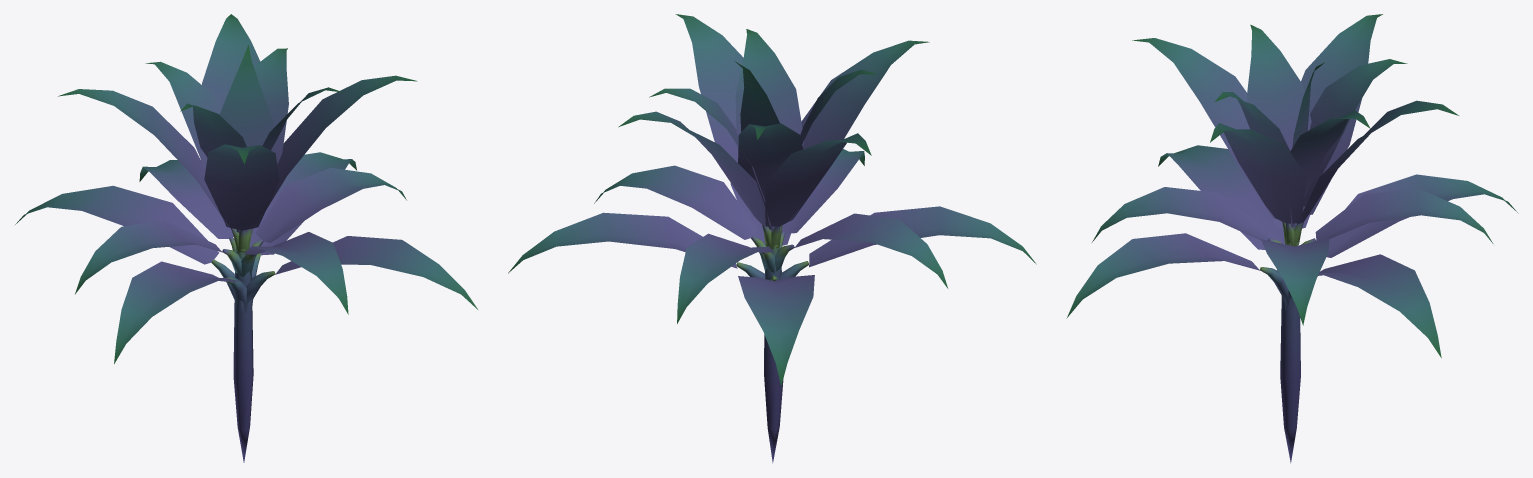
Rendered from plants-leafy-plants-bromeliad_v2.fbx.
The picture shows the model from 3 angles, left to right: view 1: azimuth 30°, elevation 25°; view 2: azimuth 150°, elevation 25°; view 3: azimuth 270°, elevation 25°; orthographic projection. The views are drawn at different scales.
Parts seen in each view (by area): view 1: Bromeliad_v2; view 2: Bromeliad_v2; view 3: Bromeliad_v2.
Part boxes in pixels (left/top/right/bottom): Bromeliad_v2: left=15, top=14, right=477, bottom=462; Bromeliad_v2: left=508, top=14, right=1036, bottom=463; Bromeliad_v2: left=1066, top=14, right=1518, bottom=463.
Size of the model in its own units: 0.4968 by 0.5 by 0.4967.
